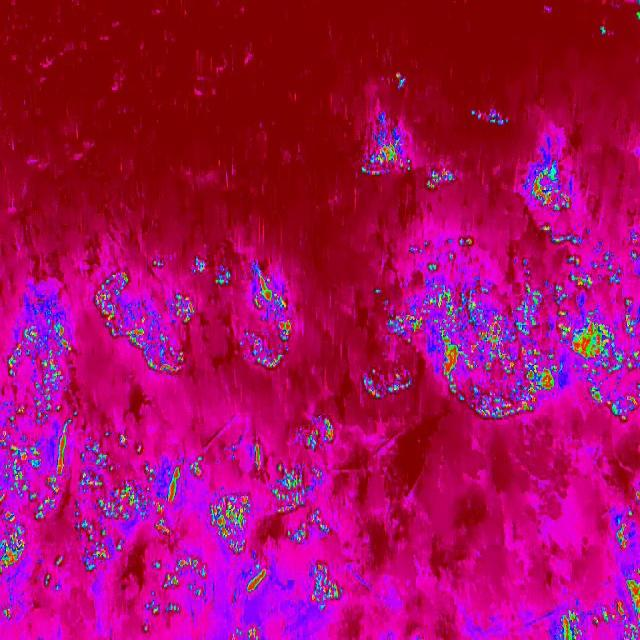fire: (72, 414, 347, 640), (362, 225, 640, 427), (89, 250, 301, 386), (0, 308, 70, 621), (348, 102, 454, 196), (554, 562, 639, 640), (514, 146, 578, 219), (613, 482, 640, 556)
